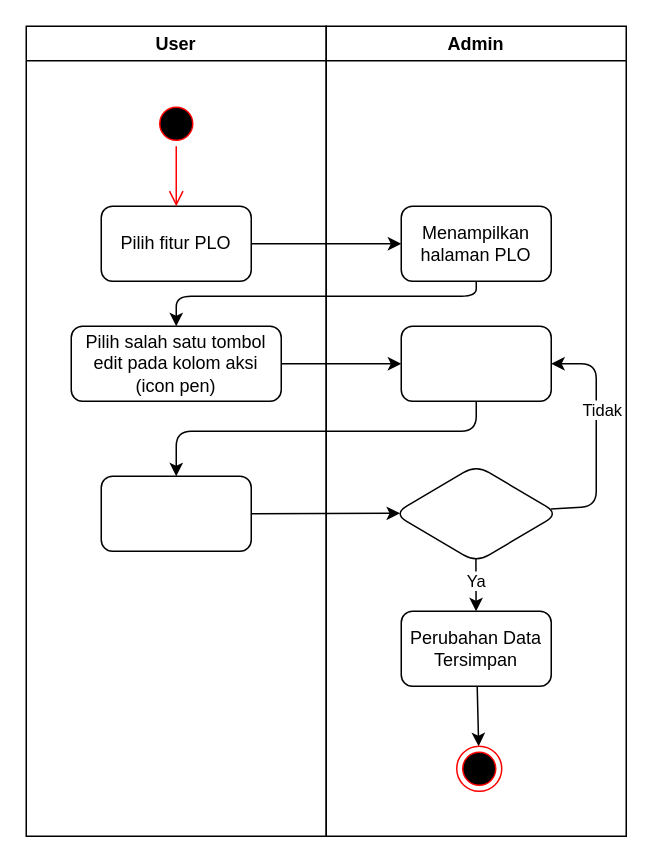
Some shapes in this 653 by 863 pixel diagram are drawn without their labels. The centre of each missing label's shape, as x and y in pixels:
"Edit data PLO" belongs at pixel 175 513.
"Menampilkan halaman edit data PLO" belongs at pixel 475 363.
"Validasi Data" belongs at pixel 475 513.
